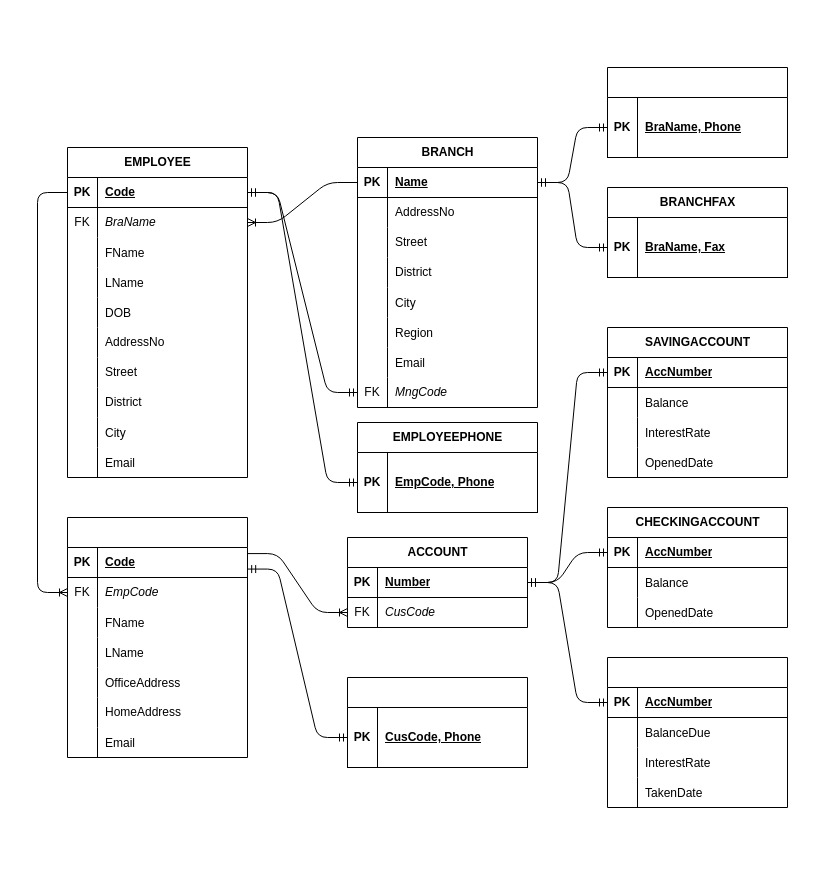
Some shapes in this 824 by 874 pixel diagram are drawn without their labels. Each missing label, with the box of its shape:
BRANCHPHONE: (606, 66, 788, 158)
CUSTOMER: (66, 516, 248, 758)
CUSTOMERPHONE: (346, 676, 528, 768)
LOAN: (606, 656, 788, 808)
